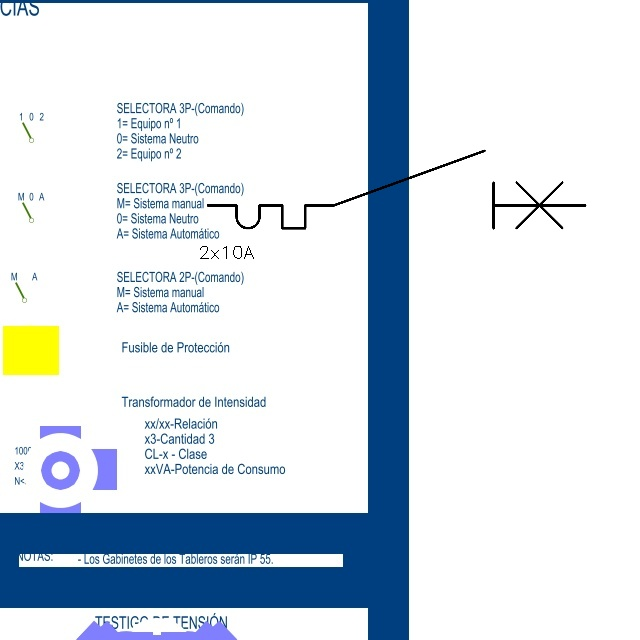interruptor_termomagnetico: (198, 141, 595, 238)
